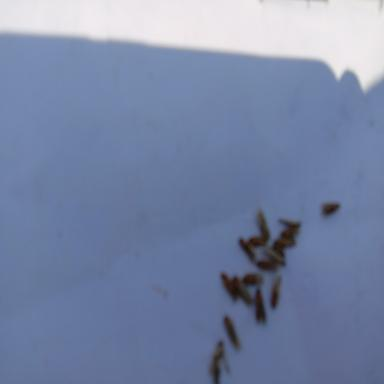pbw: (231, 276, 251, 303), (219, 272, 238, 300), (254, 288, 266, 322), (224, 316, 238, 344), (256, 211, 270, 238), (239, 239, 255, 260), (266, 247, 285, 264), (271, 277, 280, 307), (280, 227, 302, 239), (242, 273, 264, 285), (278, 218, 301, 228), (248, 236, 268, 246), (257, 260, 279, 269), (272, 239, 294, 248), (323, 202, 339, 214)
